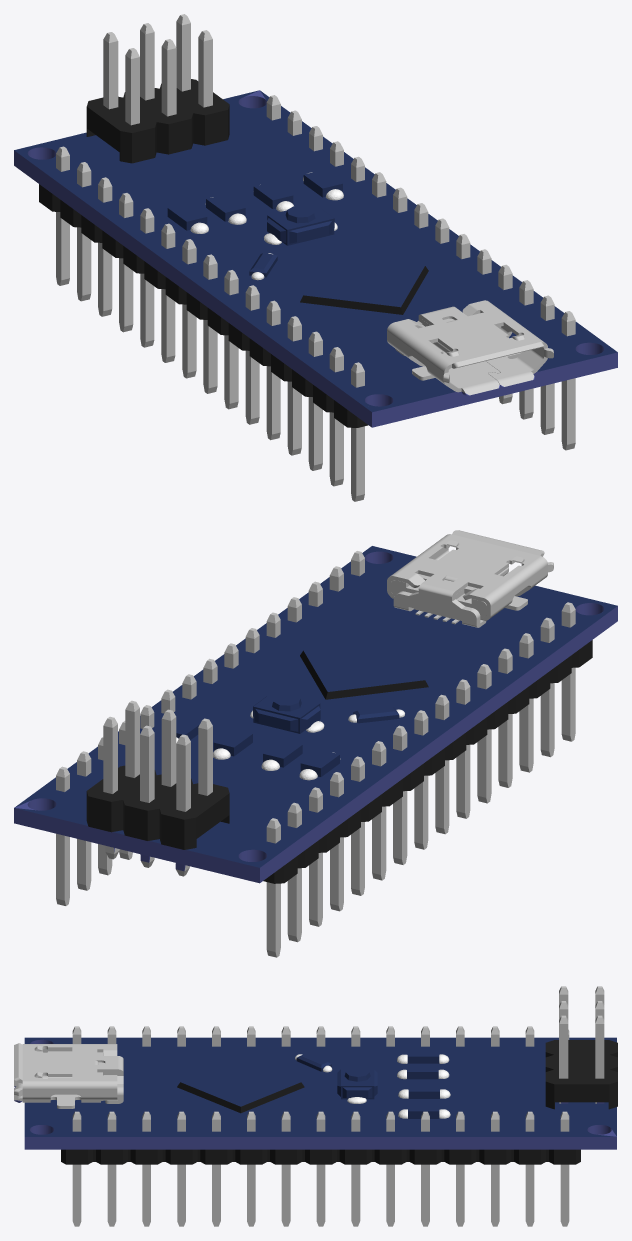
File: arduino-nano.glb
The picture shows the model from 3 angles, top to bottom: view 1: azimuth 30°, elevation 25°; view 2: azimuth 150°, elevation 25°; view 3: azimuth 270°, elevation 25°; orthographic projection. The views are drawn at different scales.
Visible parts, largest first — view 1: body.501_0; view 2: body.501_0; view 3: body.501_0.
Boxes of the visible parts, x1=… form: body.501_0: x1=14, y1=14, x2=617, y2=501; body.501_0: x1=14, y1=530, x2=617, y2=957; body.501_0: x1=14, y1=986, x2=617, y2=1226.
Size of the model in its own units: 2.83 by 2.4 by 7.28.
